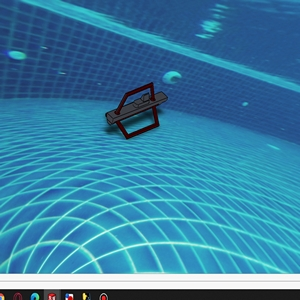submarine: (104, 82, 168, 135)
